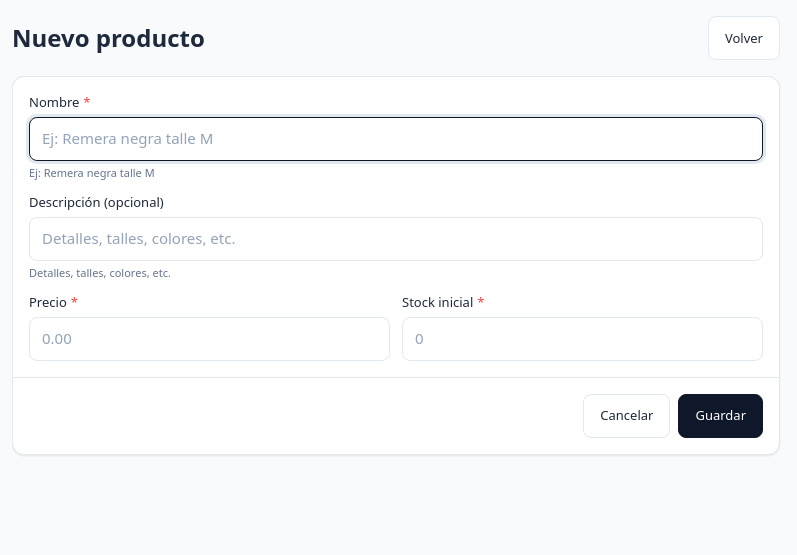
Test: InventoryForm › New Mode › shows validation error when price is negative
The width and height of the screenshot is (797, 555).
In the field labelled "Nombre *": [396, 138] box [29, 116, 763, 160], type "Test"
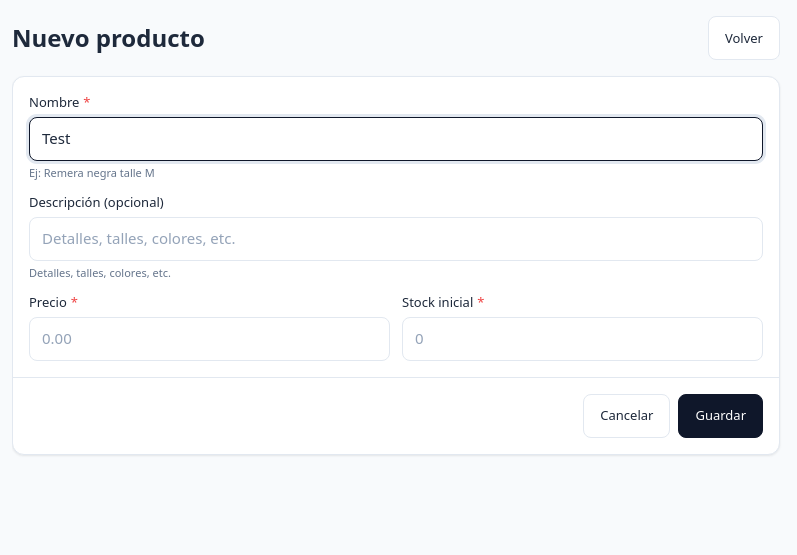
In the number field labelled "Precio *": [210, 338] box [29, 316, 390, 360], type "-100"
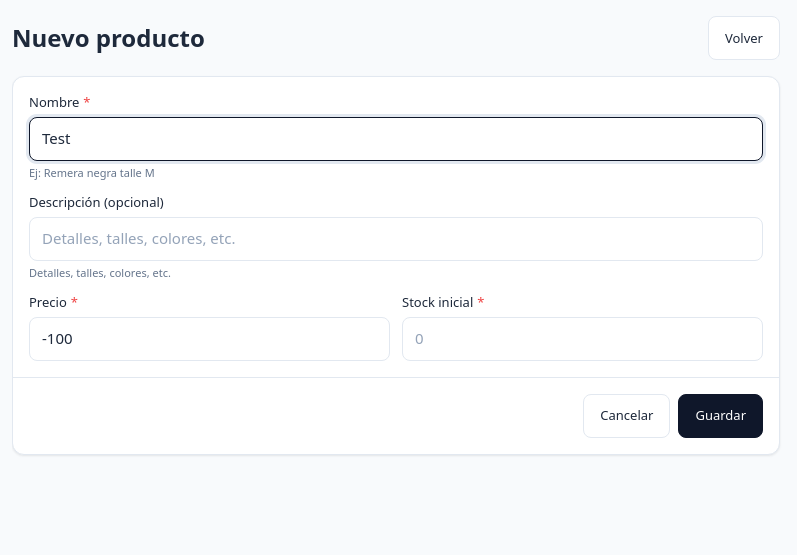
In the number field labelled "Stock inicial *": [582, 338] box [402, 316, 763, 360], type "10"
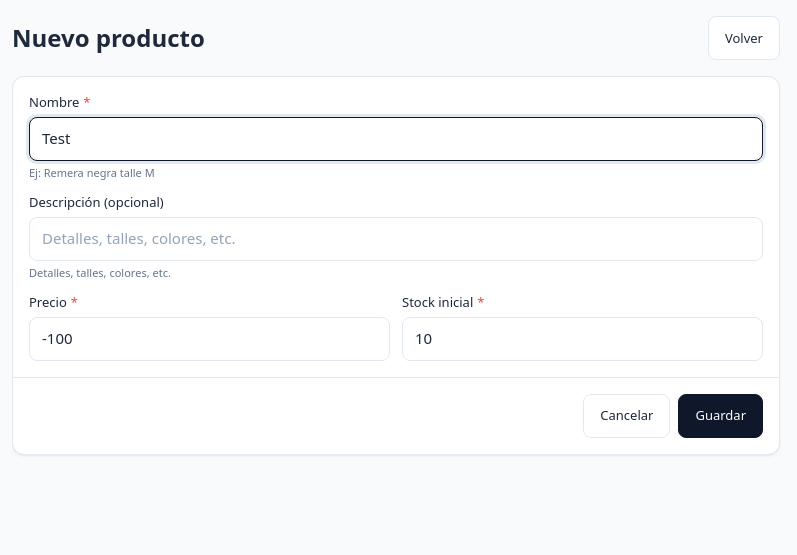
Click the button "Guardar": [721, 416] box [678, 394, 763, 438]
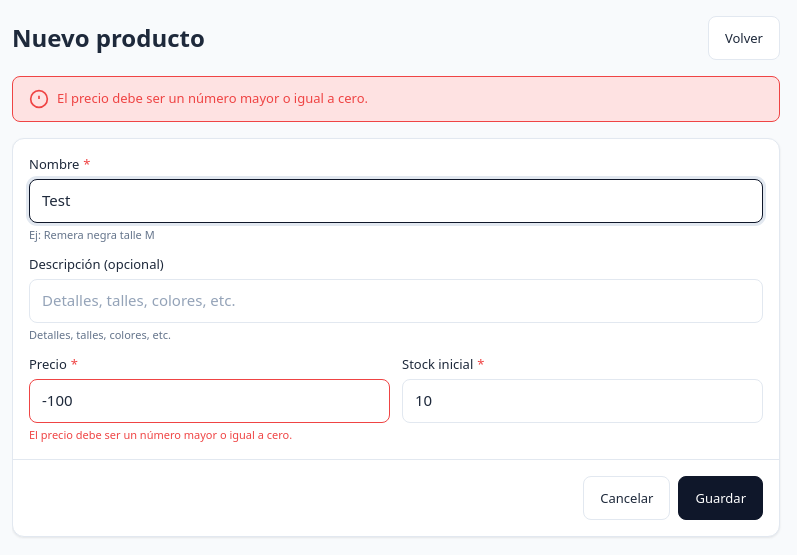
Check: the text "El precio debe ser un número mayor o igual a cero." is shown, box [57, 89, 368, 108]
